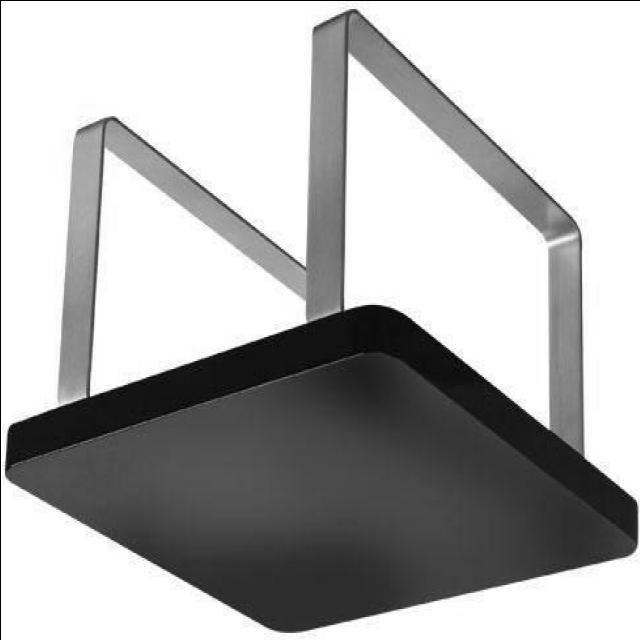table: (1, 10, 639, 639)
